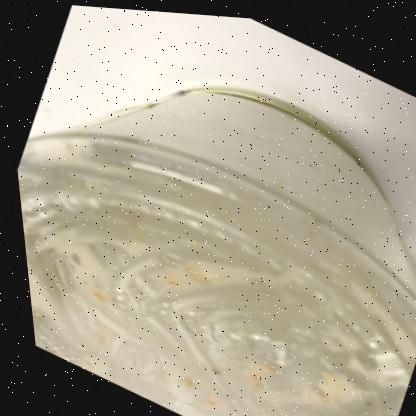Glass: (14, 83, 416, 416)
